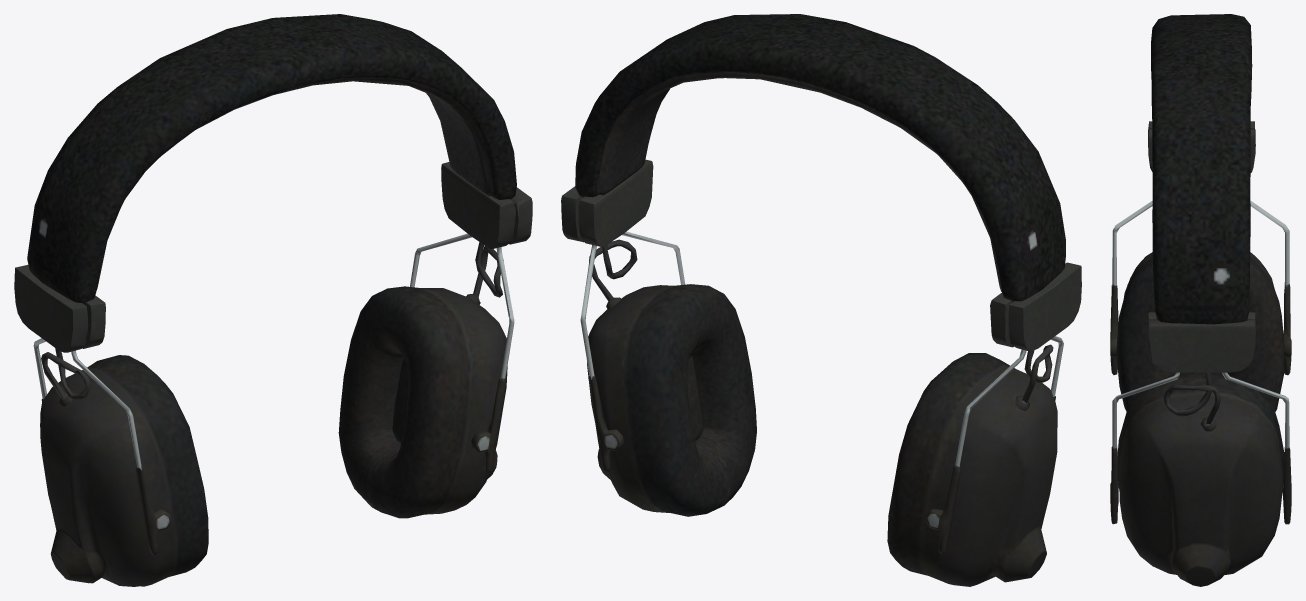
Rendered from 035_headphone.fbx.
3 renders of one model, left to right at view 1: azimuth 30°, elevation 25°; view 2: azimuth 150°, elevation 25°; view 3: azimuth 270°, elevation 25°, orthographic. The views are drawn at different scales.
Parts seen in each view (by area): view 1: LOD_1_Group_0_Sub_1__sm31_035_Headphone01A_A_Mat; view 2: LOD_1_Group_0_Sub_1__sm31_035_Headphone01A_A_Mat; view 3: LOD_1_Group_0_Sub_1__sm31_035_Headphone01A_A_Mat.
Boxes of the visible parts, left/top/right/bottom form: LOD_1_Group_0_Sub_1__sm31_035_Headphone01A_A_Mat: left=14, top=14, right=532, bottom=586; LOD_1_Group_0_Sub_1__sm31_035_Headphone01A_A_Mat: left=561, top=14, right=1081, bottom=586; LOD_1_Group_0_Sub_1__sm31_035_Headphone01A_A_Mat: left=1110, top=14, right=1291, bottom=586.
Size of the model in its own units: 0.2038 by 0.2128 by 0.076.
